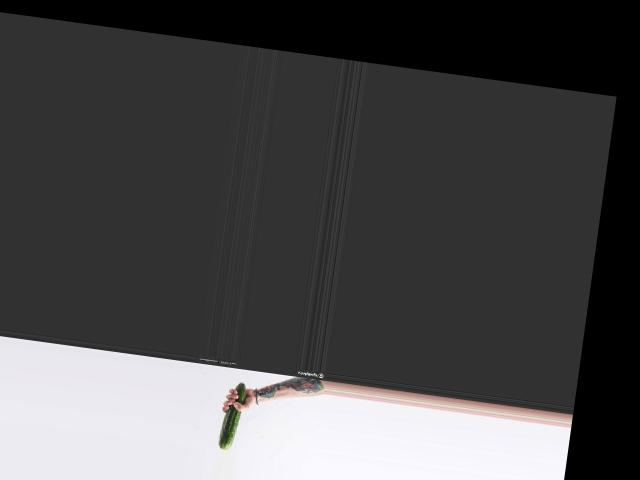cucumber: (217, 381, 246, 451)
